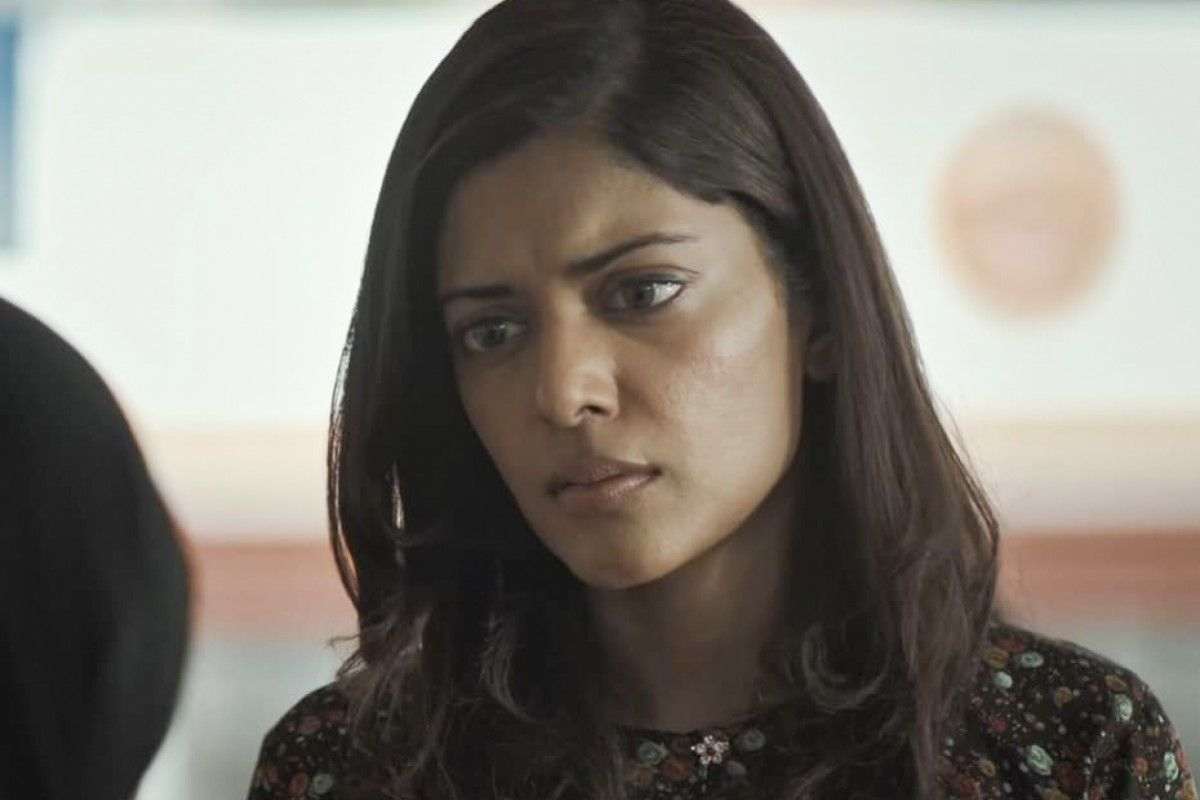Indian: (434, 216, 791, 574)
